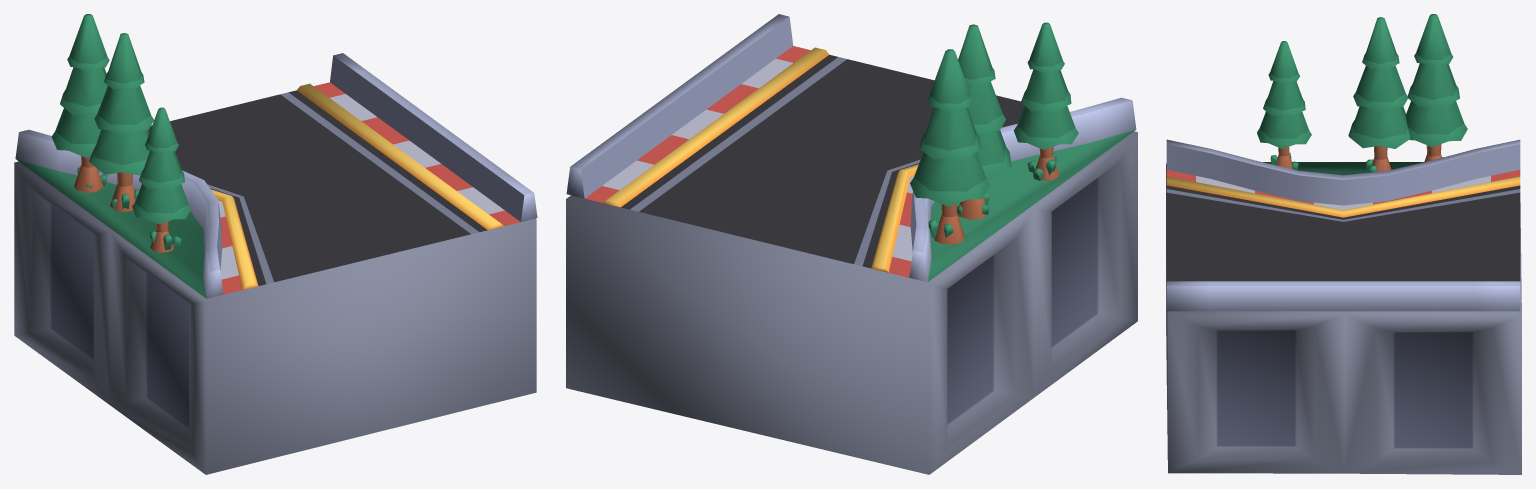
The model's file is elev-track-choke-half.glb.
3 renders of one model, left to right at view 1: azimuth 30°, elevation 25°; view 2: azimuth 150°, elevation 25°; view 3: azimuth 270°, elevation 25°, orthographic. The views are drawn at different scales.
Visible parts, largest first — view 1: track-straight; view 2: track-straight; view 3: track-straight.
Boxes of the visible parts, <box> form: track-straight: <box>14,14,537,474</box>; track-straight: <box>566,14,1137,474</box>; track-straight: <box>1166,14,1521,474</box>.
Bounding box in the file's own units: 10.16 × 10.05 × 10.06.
Materials: 2 (2 with a texture image).
